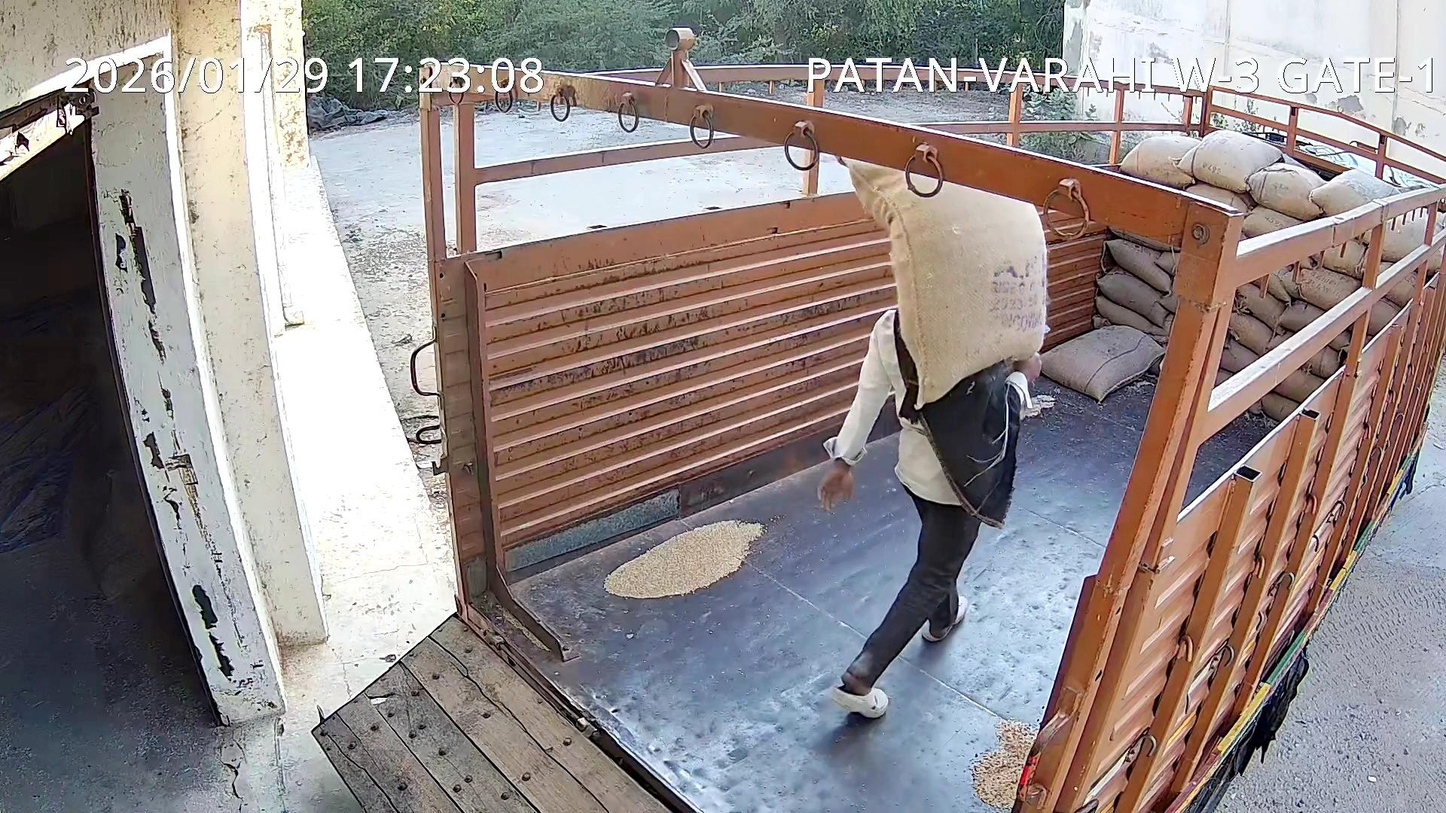Sack: (847, 160, 1047, 405)
